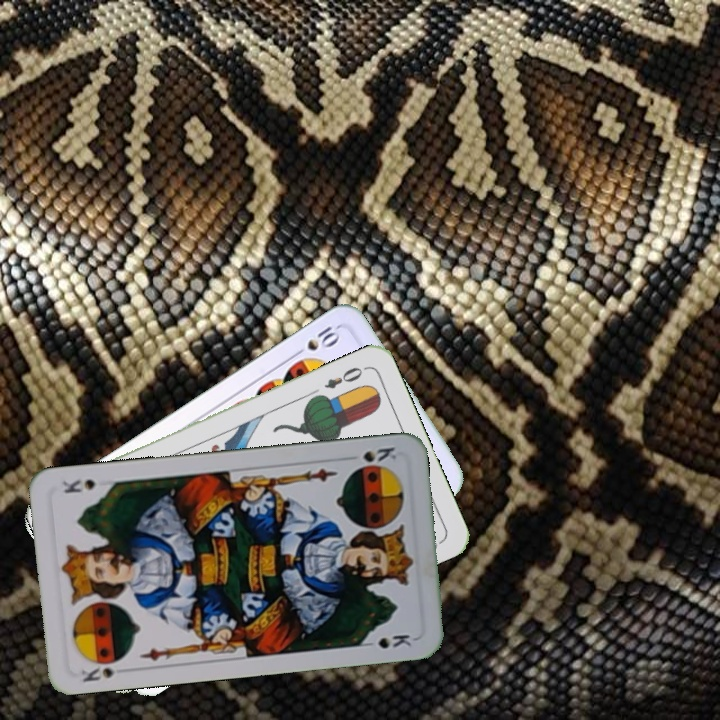EO: (320, 362, 370, 392)
S10: (288, 322, 343, 360)
SK: (77, 654, 129, 685), (342, 443, 399, 465)
